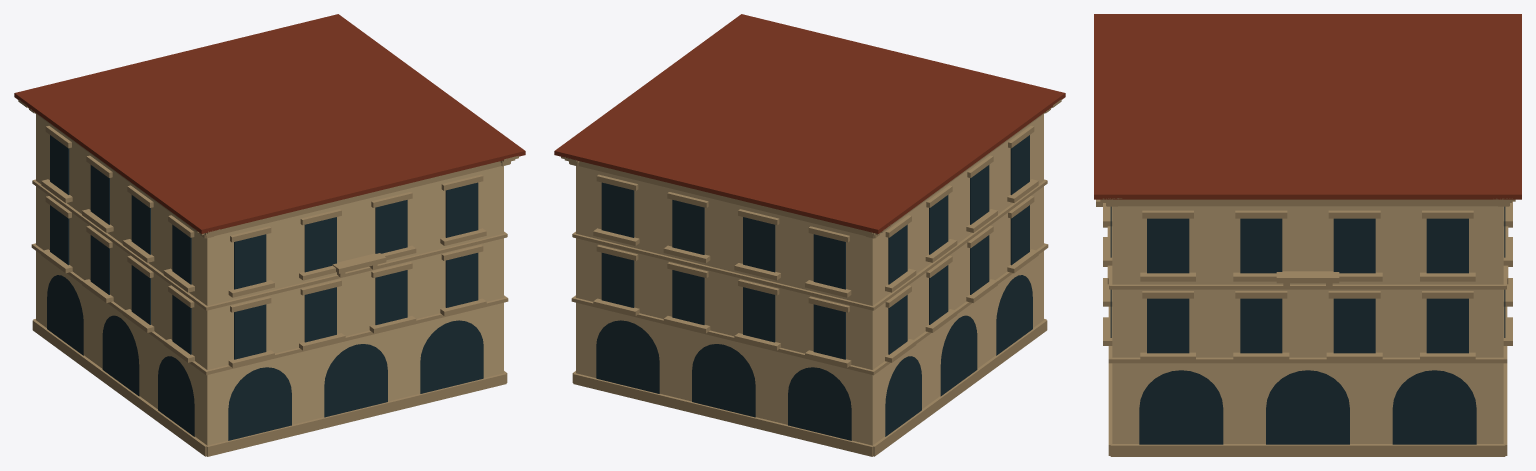
File: distant-flat.glb
3 renders of one model, left to right at view 1: azimuth 30°, elevation 25°; view 2: azimuth 150°, elevation 25°; view 3: azimuth 270°, elevation 25°, orthographic. The views are drawn at different scales.
Visible parts, largest first — view 1: Barrel terracotta, Lime plaster, Deep blue glazing, Honey limestone; view 2: Barrel terracotta, Lime plaster, Deep blue glazing, Honey limestone; view 3: Barrel terracotta, Lime plaster, Deep blue glazing, Honey limestone.
Boxes of the visible parts, x1,y1,x2,y2 form: Barrel terracotta: (14,14,525,233); Lime plaster: (36,114,503,445); Deep blue glazing: (47,135,483,440); Honey limestone: (18,99,518,456); Barrel terracotta: (554,14,1065,233); Lime plaster: (576,114,1043,445); Deep blue glazing: (596,135,1032,440); Honey limestone: (561,99,1061,456); Barrel terracotta: (1094,14,1521,199); Lime plaster: (1112,206,1503,443); Deep blue glazing: (1110,206,1505,444); Honey limestone: (1096,198,1515,456).
Bounding box in the file's own units: 13 × 9 × 13.
